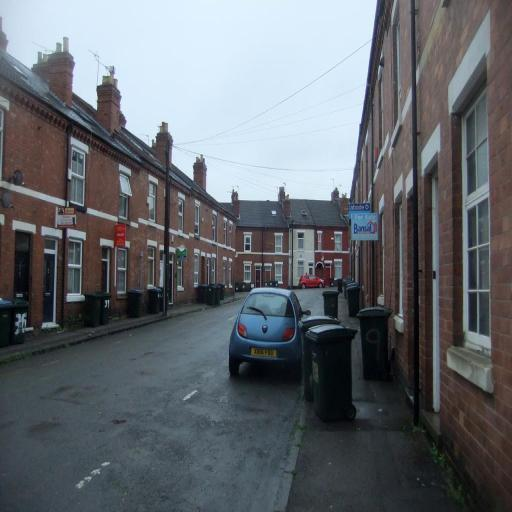trash-can: (308, 322, 362, 433), (360, 302, 397, 386)
